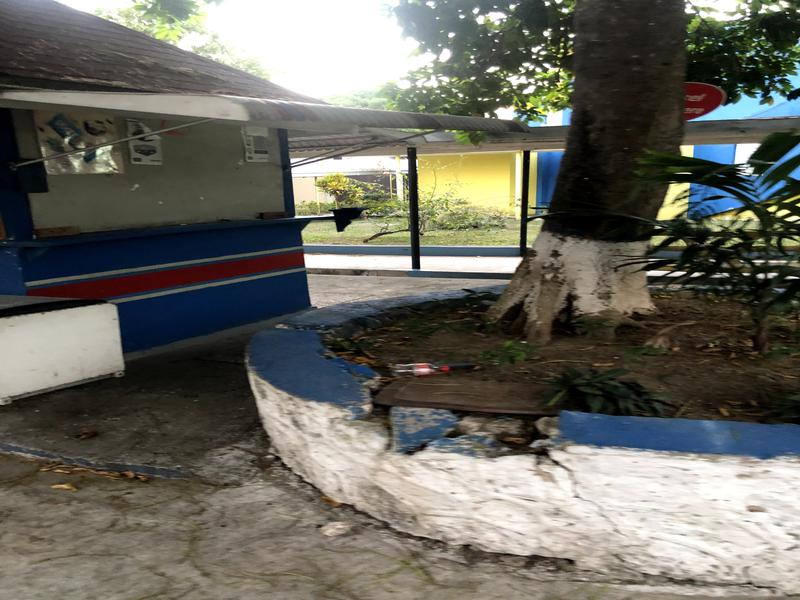18.0050609_-76.7496662_auntyjackie: (1, 1, 507, 405)
